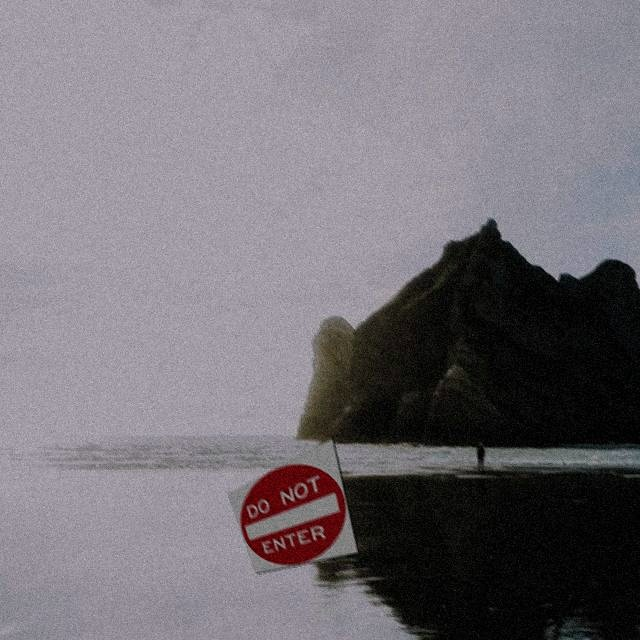DO_NOT_ENTER: (226, 437, 358, 574)
